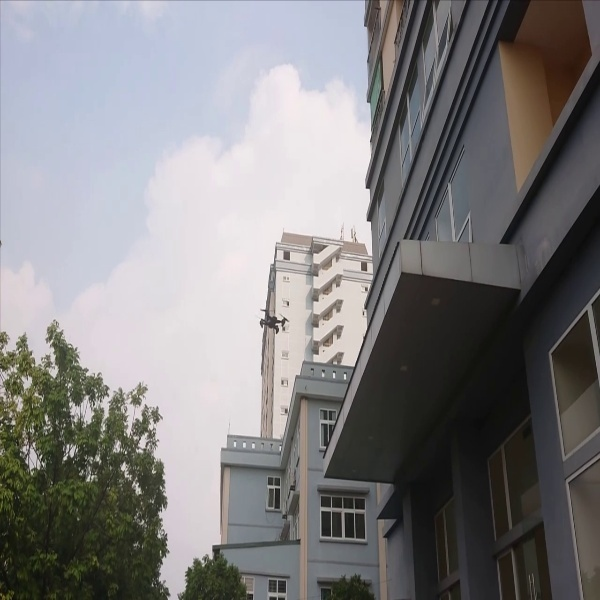drone: (256, 304, 292, 336)
